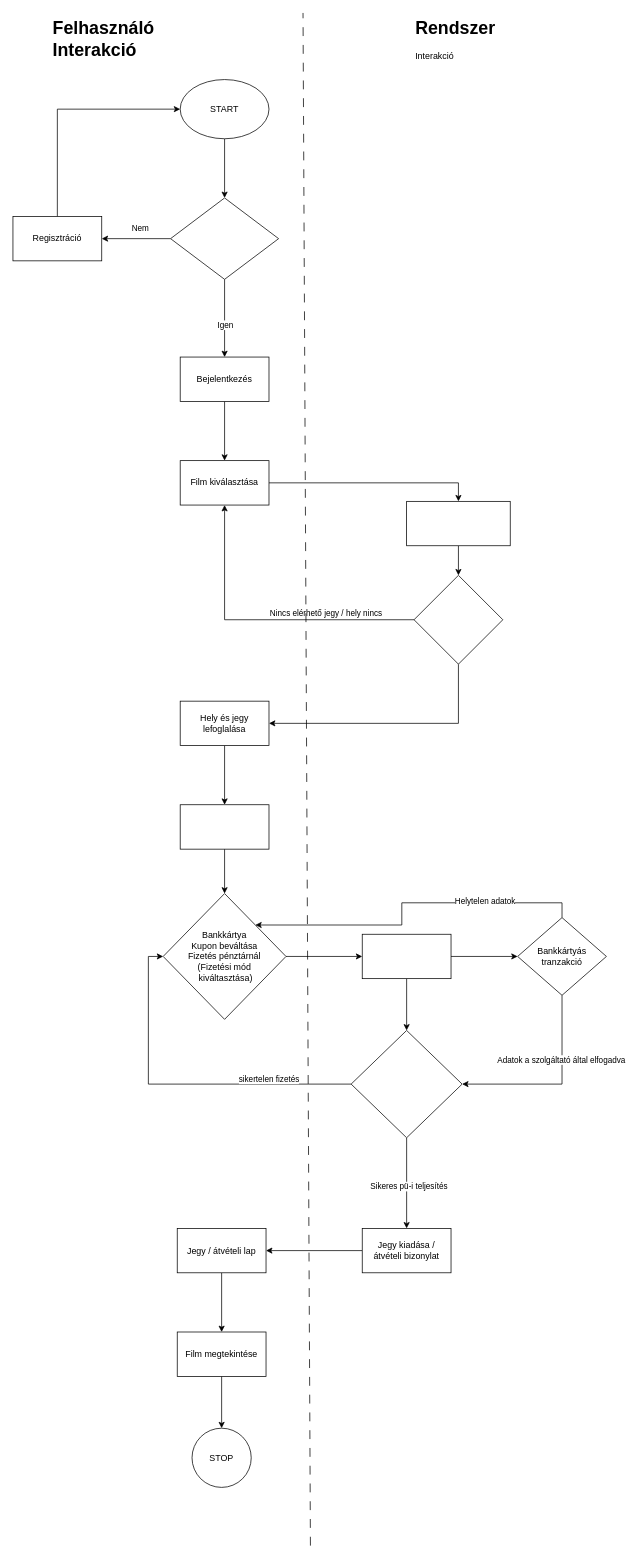
Image size: 638x1560. Some labels were removed from this diagram. Here are the shapes that lost their labels. From the top down, the box of each, then its label:
(170, 197, 279, 279): Regisztrált felhasználó?
(406, 501, 510, 546): Ellenőrzés, elérhető-e?
(413, 575, 503, 664): Szabad hely / elérhető jegy(ek) ellenőrzése
(179, 804, 269, 849): Jegy pénzügyi rendezése
(361, 934, 451, 979): Adatok ellenőrzése
(350, 1030, 462, 1138): Bevitt adatok elfogadva
